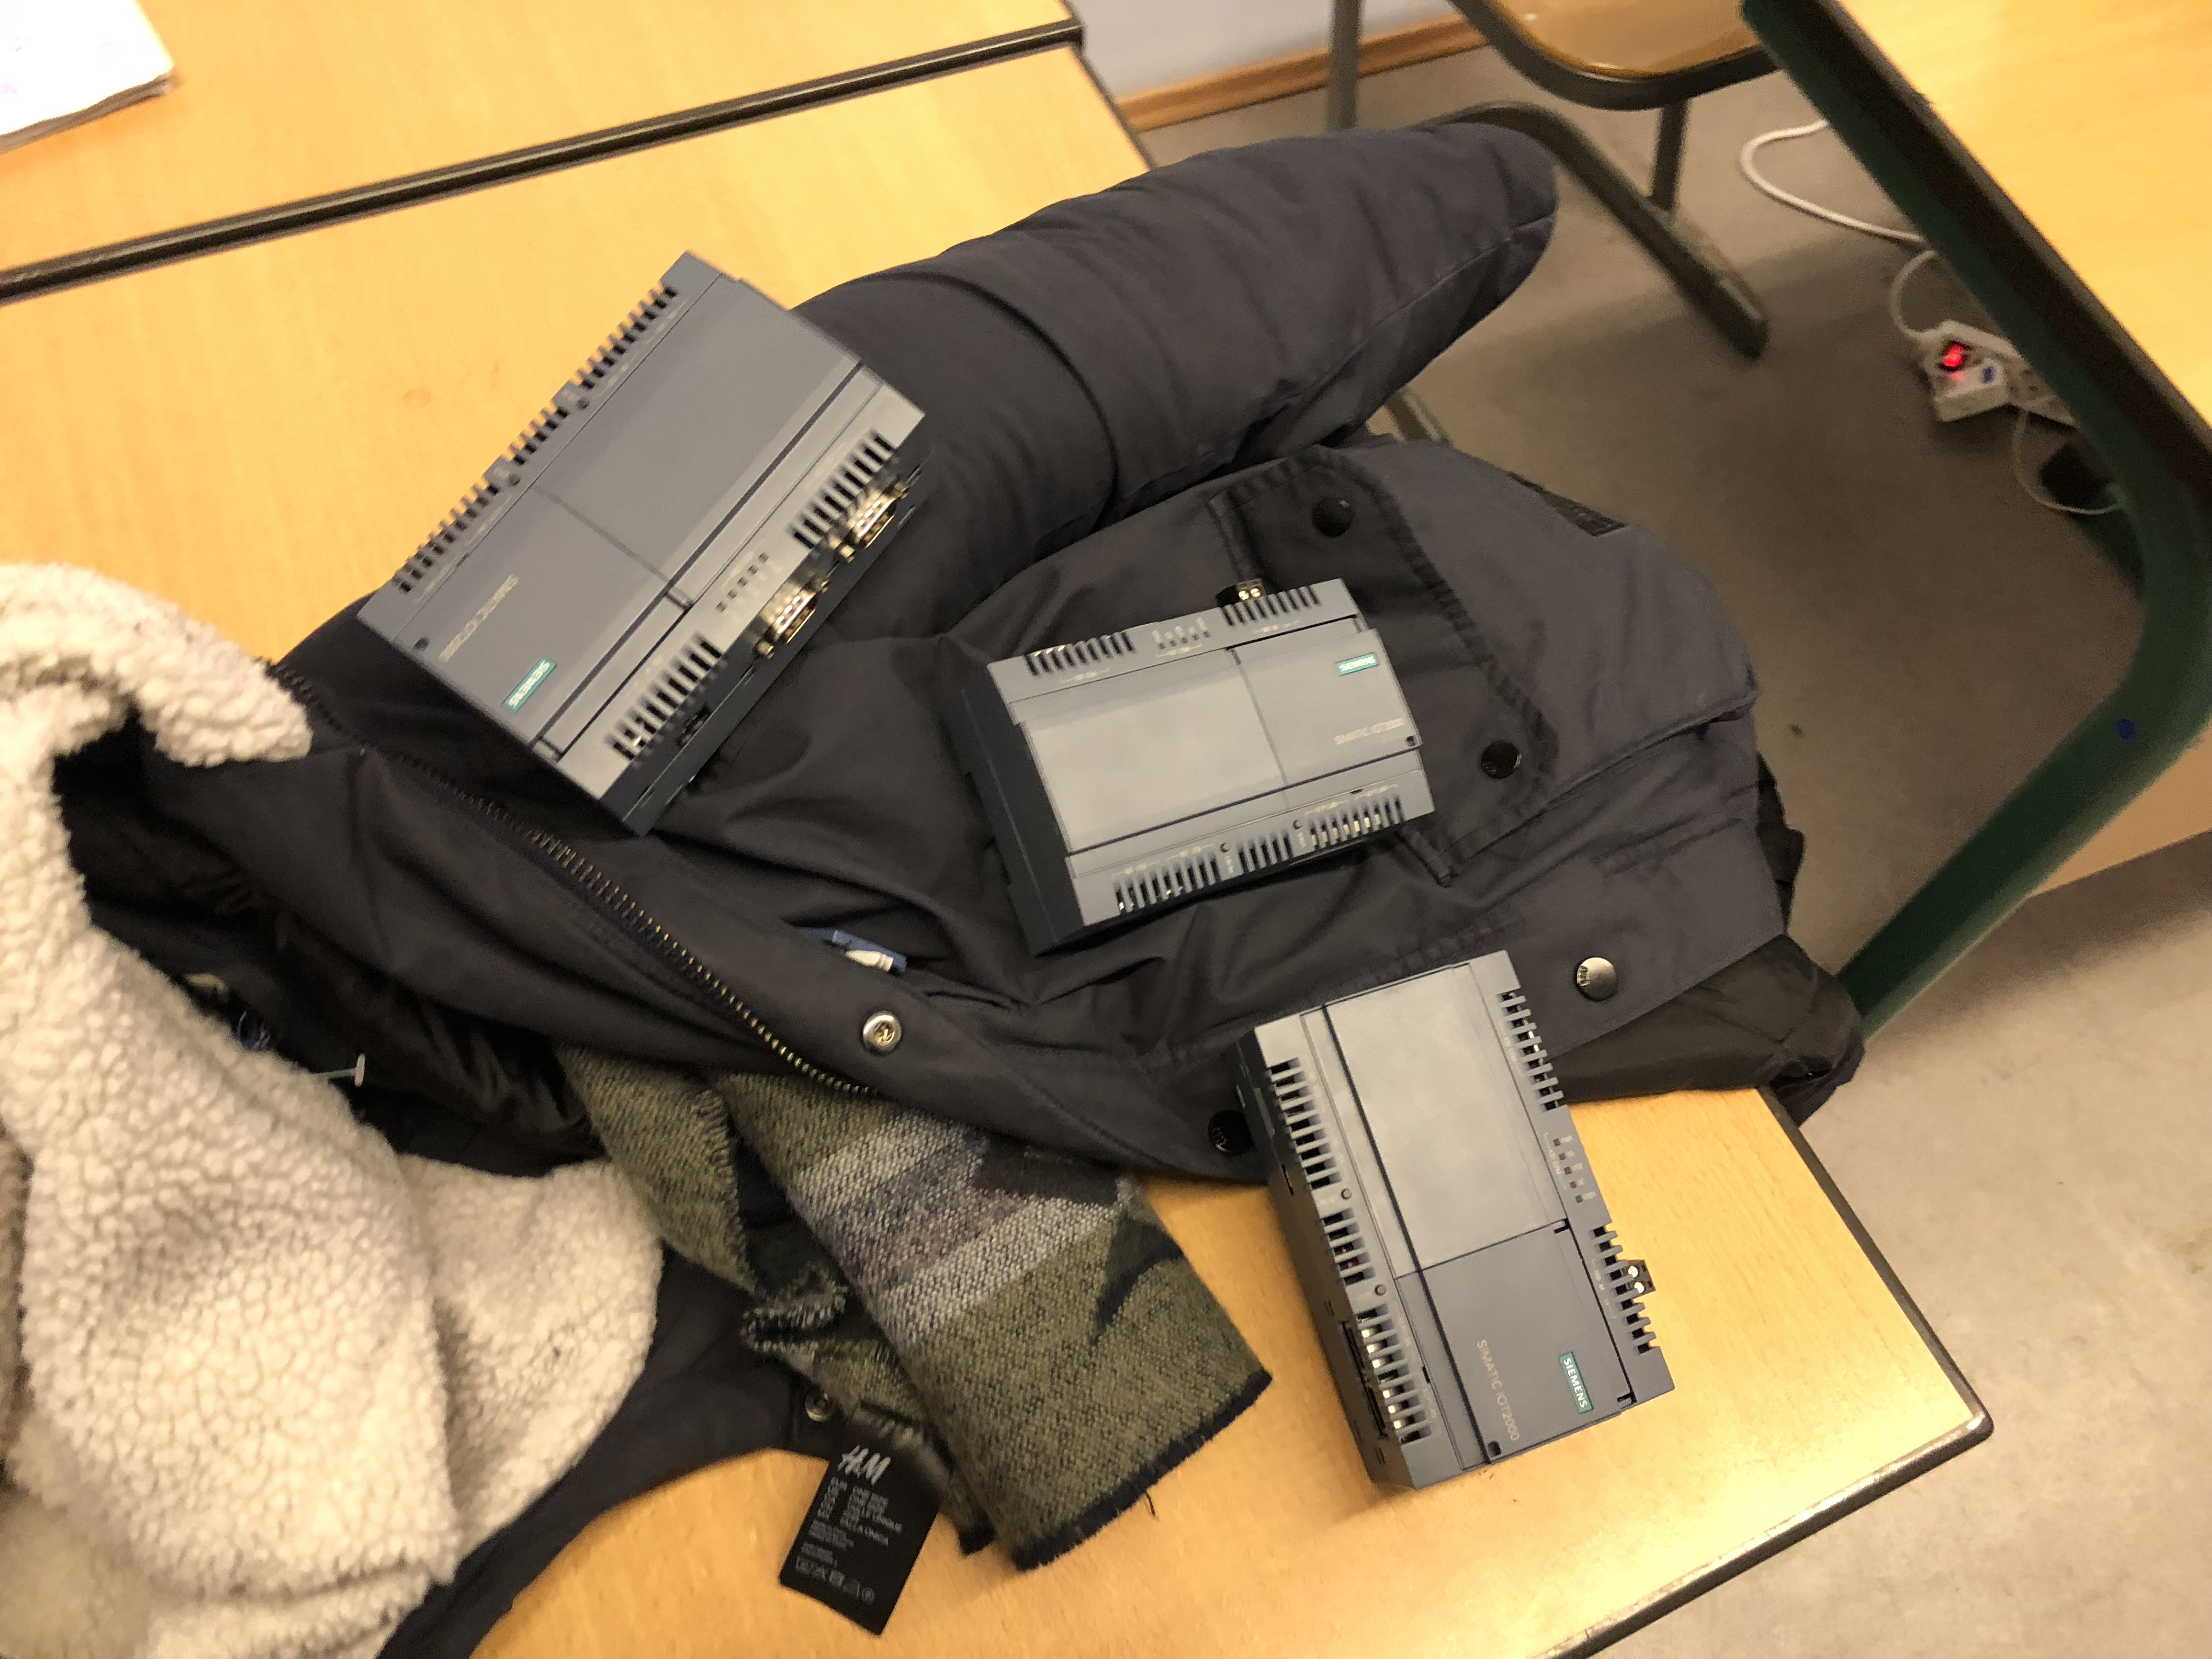device: (352, 251, 928, 838), (1221, 946, 1677, 1492), (941, 577, 1439, 958)
